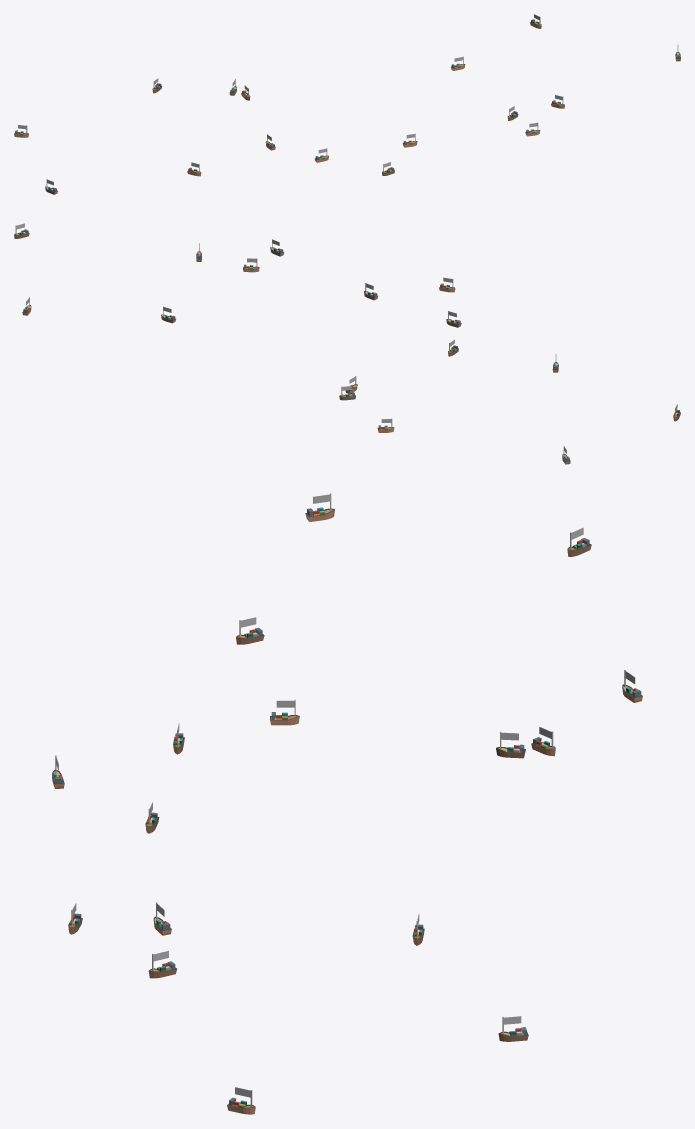
File: Ships.glb
3 views of the same model, one above another, from view 1: azimuth 30°, elevation 25°; view 2: azimuth 150°, elevation 25°; view 3: azimuth 270°, elevation 25° (orthographic). The views are drawn at different scales.
Size of the model in its own units: 2.37 by 0.0434 by 0.9901.
2 materials, 1 textured.
